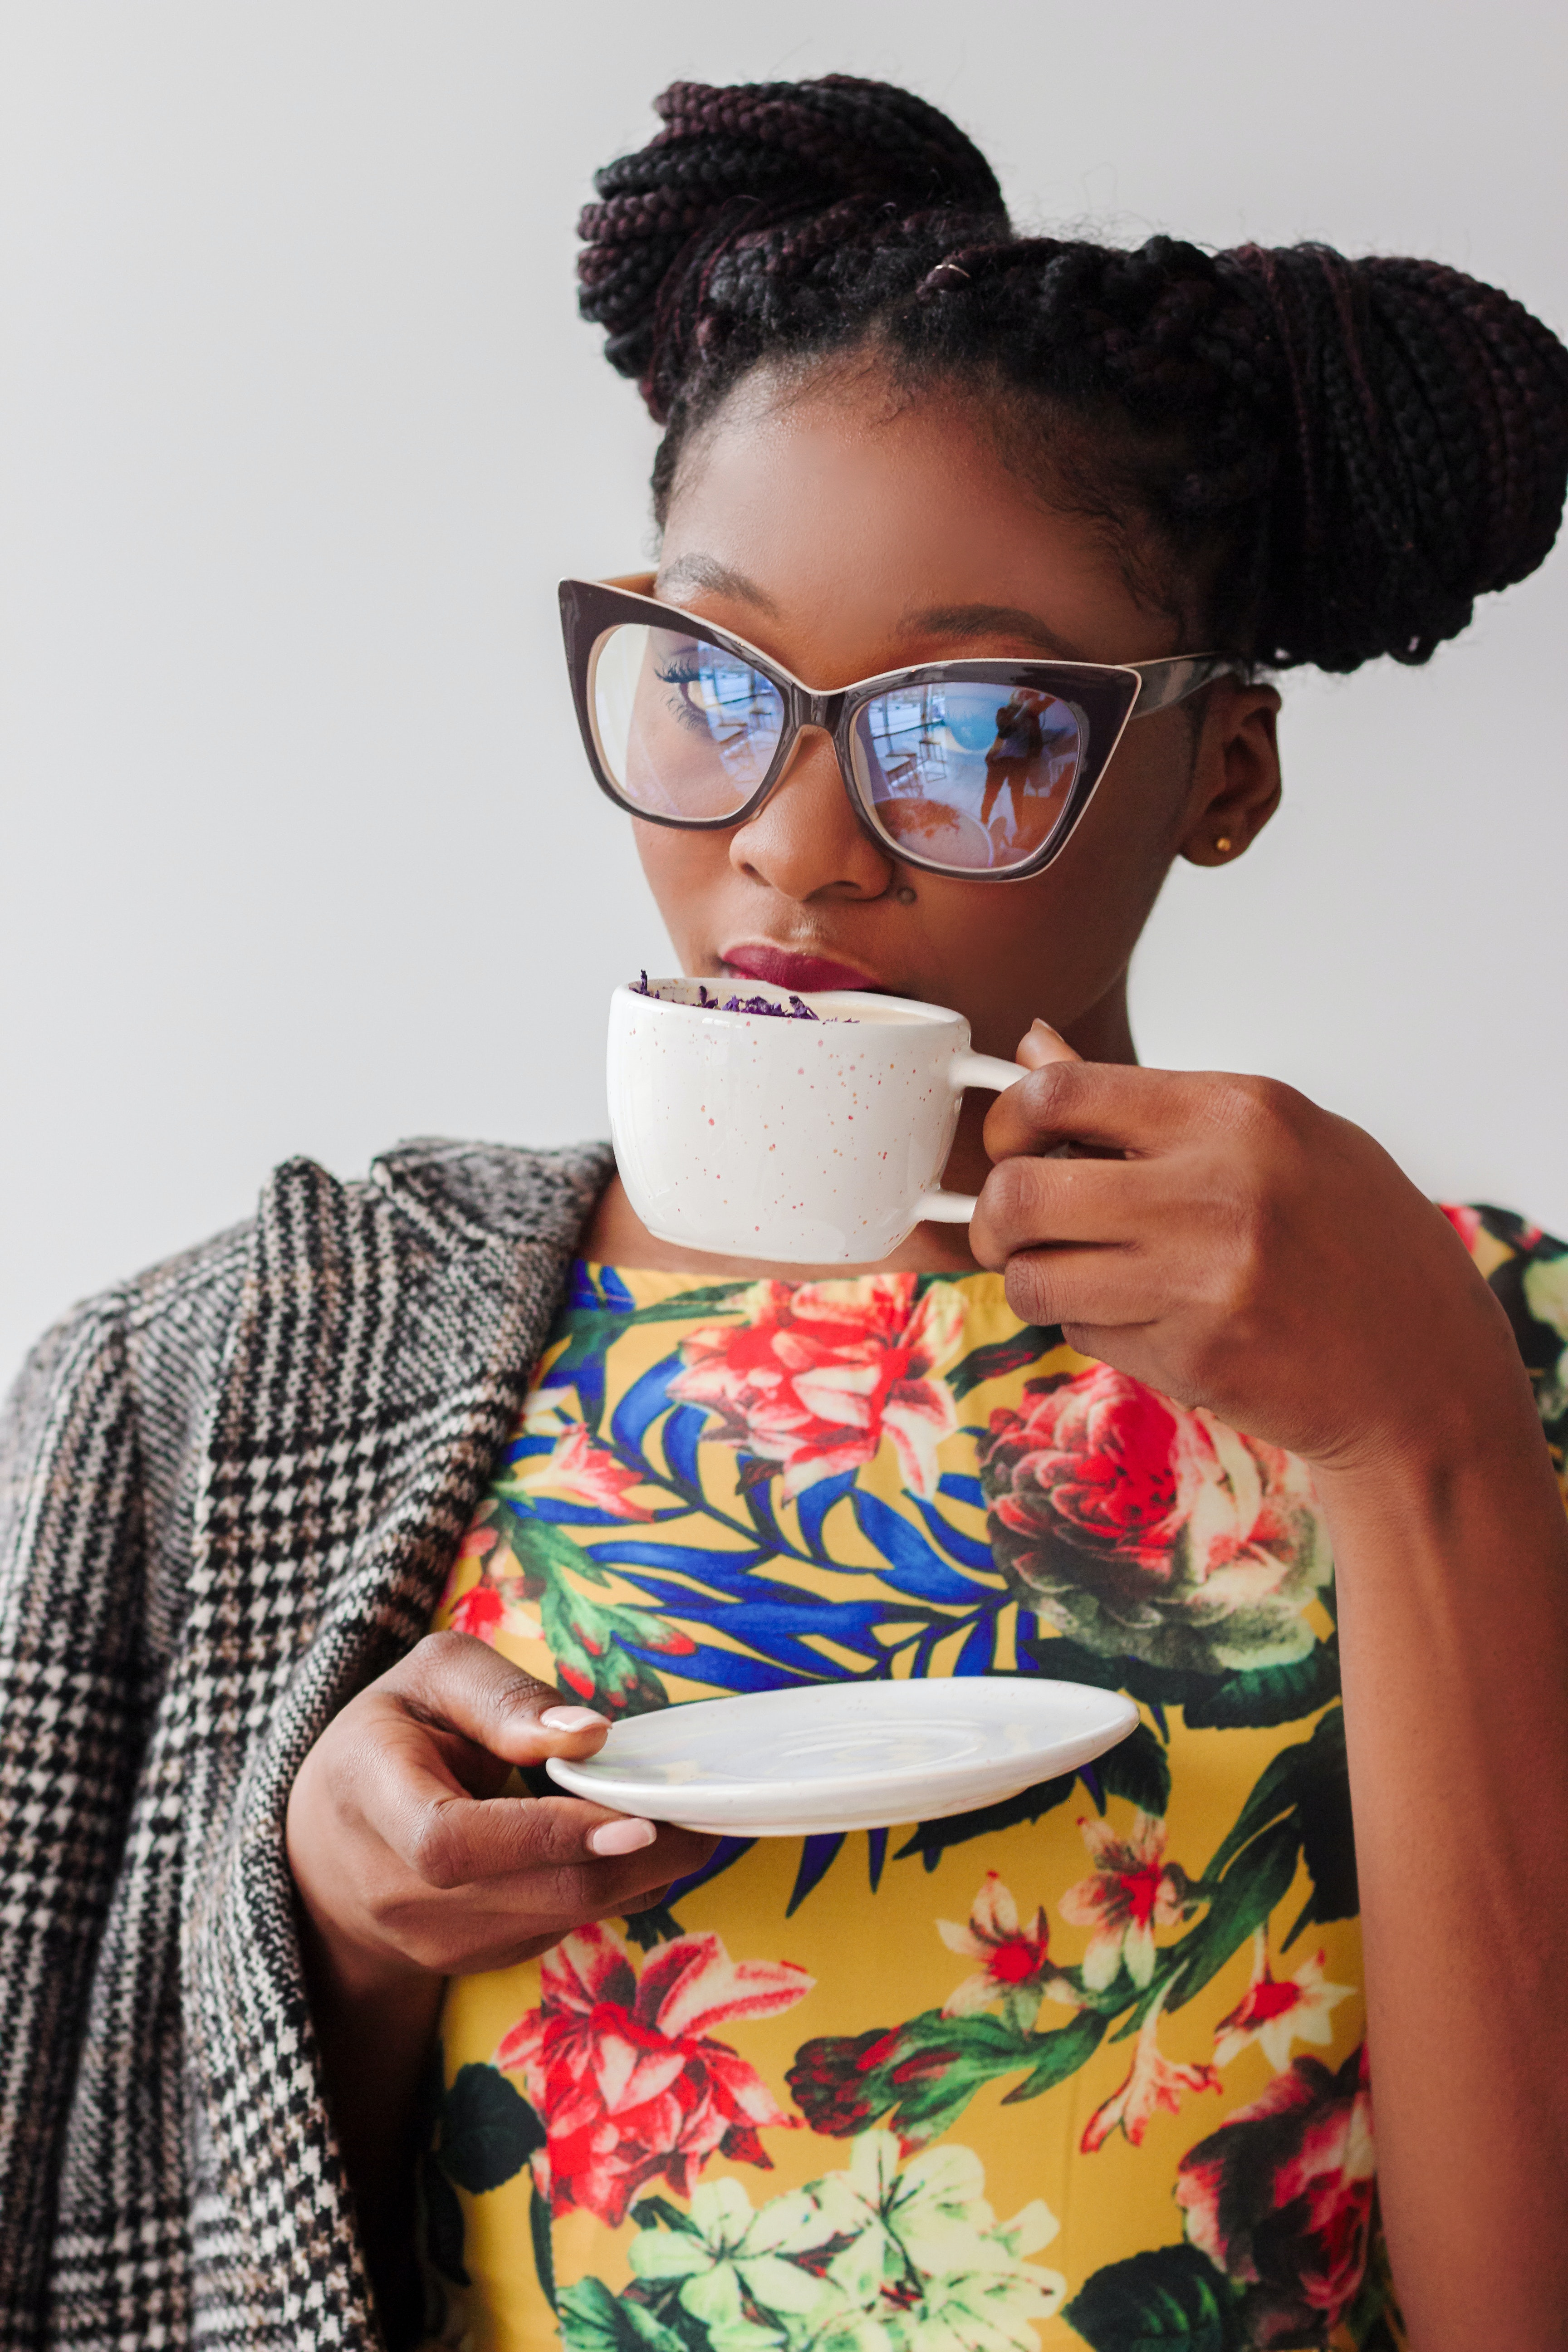cup: (604, 970, 1050, 1267)
